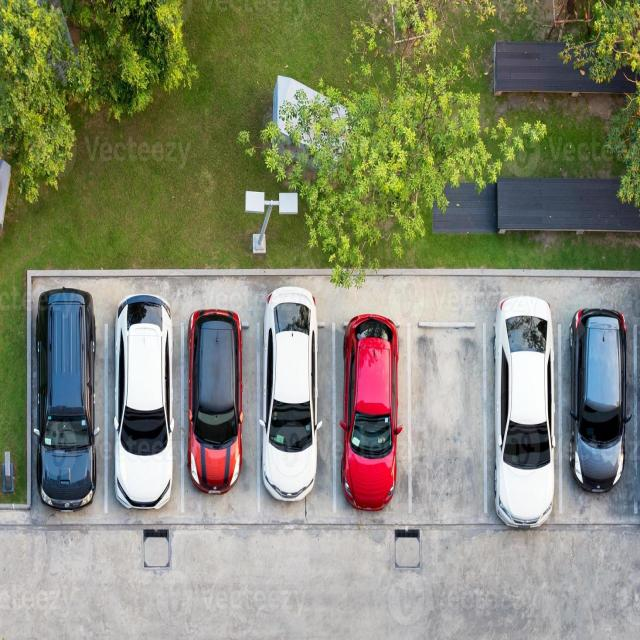libre: (408, 309, 484, 518)
ocupado: (29, 278, 407, 529), (486, 279, 637, 540)
